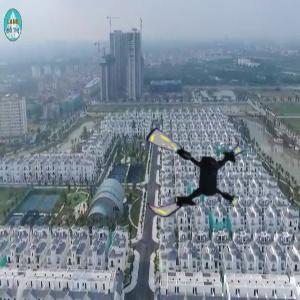drone: (136, 118, 246, 228)
